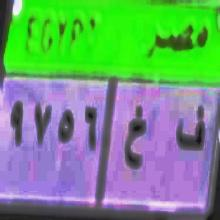5: (57, 108, 76, 150)
6: (82, 98, 98, 157)
7: (32, 99, 52, 152)
9: (8, 94, 26, 152)
faa: (174, 97, 208, 164)
khaa: (123, 105, 147, 177)
